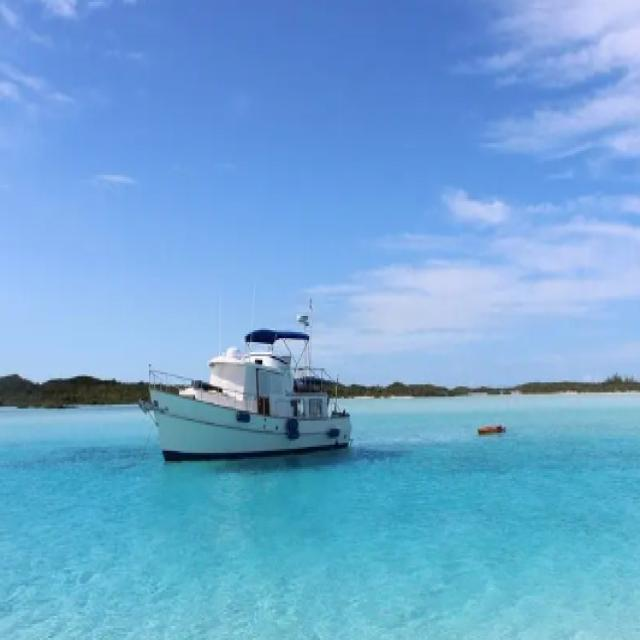houseboat: (146, 303, 357, 463)
